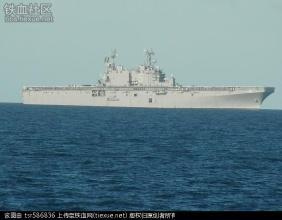warship: (16, 46, 274, 111)
